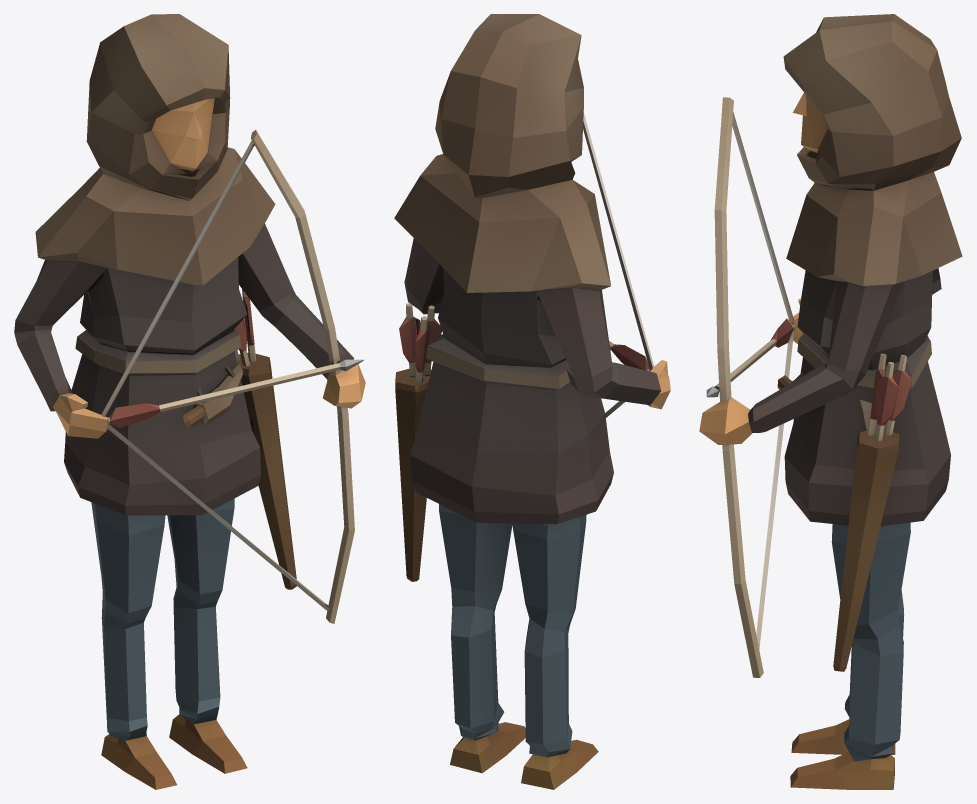
3 views of the same model, side by side, from view 1: azimuth 30°, elevation 25°; view 2: azimuth 150°, elevation 25°; view 3: azimuth 270°, elevation 25° (orthographic). The views are drawn at different scales.
Visible parts, largest first — view 1: Archer_mesh; view 2: Archer_mesh; view 3: Archer_mesh.
Boxes of the visible parts, bbox=[...] form: Archer_mesh: bbox=[14, 14, 365, 789]; Archer_mesh: bbox=[394, 14, 670, 789]; Archer_mesh: bbox=[699, 14, 962, 789].
Size of the model in its own units: 4.29 by 11.27 by 3.62.
Materials: 1 (1 with a texture image).
